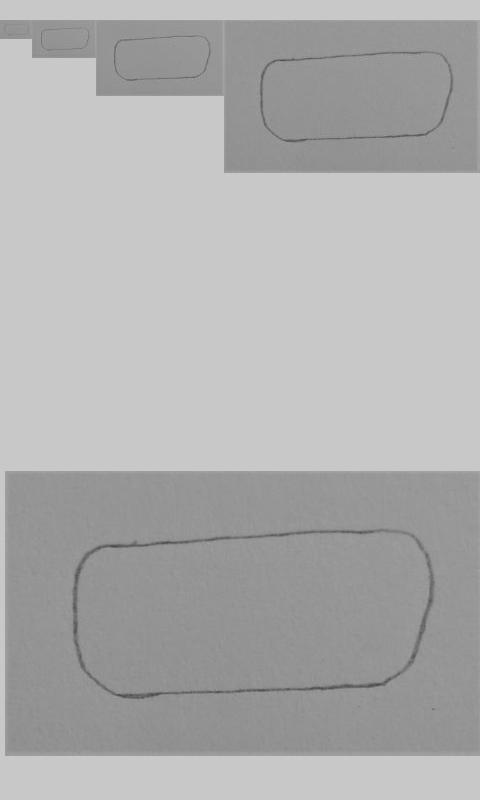chip: (70, 529, 435, 700), (259, 50, 455, 143), (114, 35, 211, 81), (41, 27, 90, 51), (4, 23, 30, 36)
